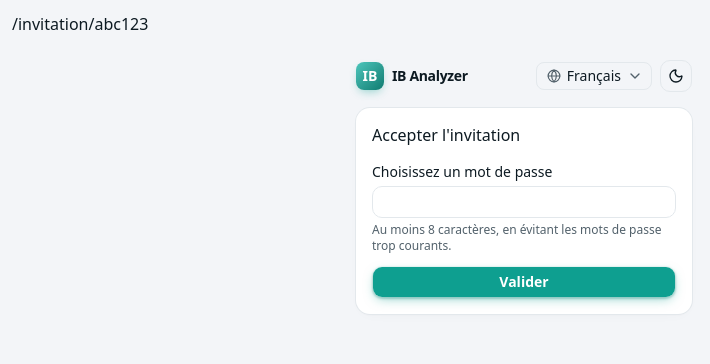
it: InvitationPage › shows a discreet unreachable message and re-enables the button when the network fails
Step 1. Type "correct-horse-battery" into the password field labelled "Choisissez un mot de passe" → (524, 202), box [372,186,676,218]
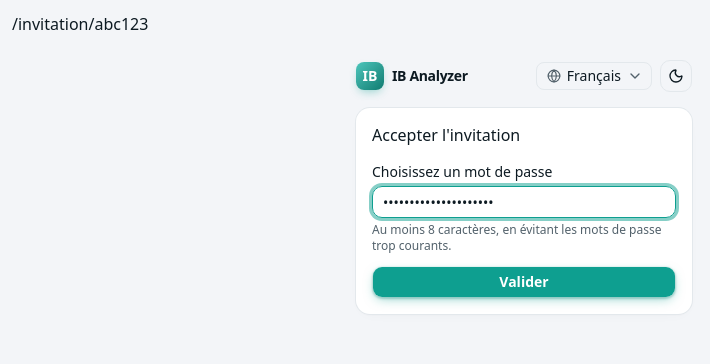
Step 2. Click the button "Valider" → (524, 282), box [372,266,676,298]
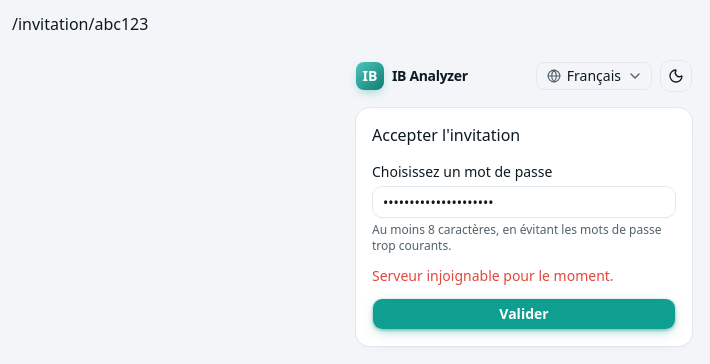
Check: the button "Valider" is enabled, box [372,298,676,330]
Check: the message reads "Serveur injoignable pour le moment.", box [372,266,614,285]
